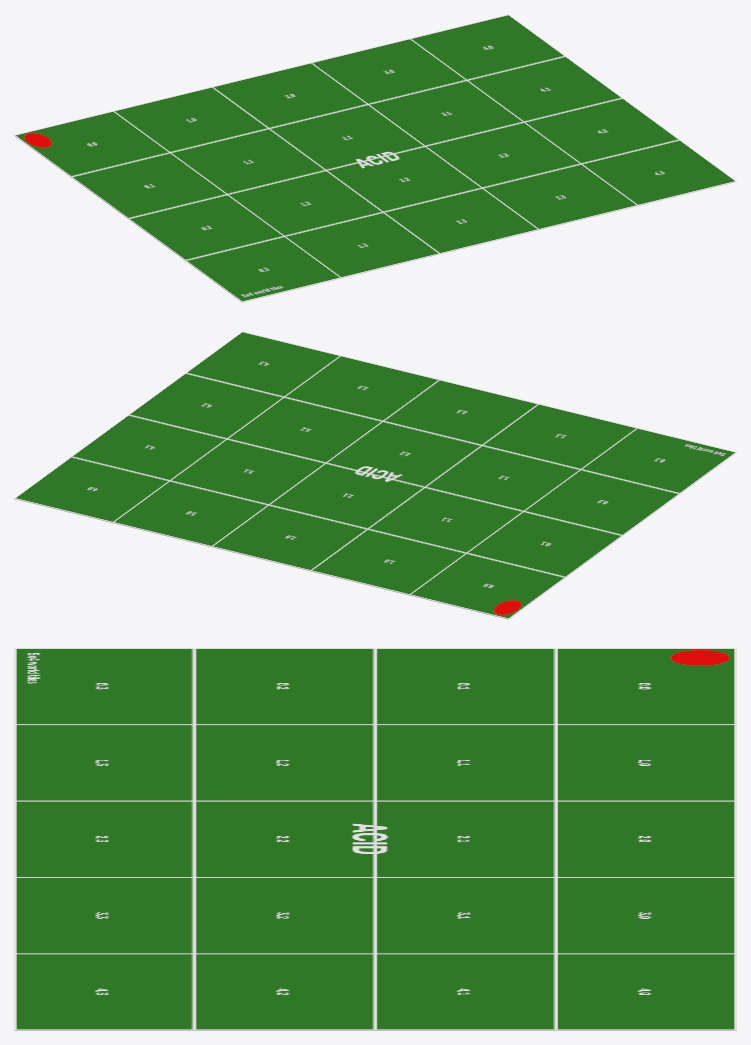
File: underlays.glb
The picture shows the model from 3 angles, top to bottom: view 1: azimuth 30°, elevation 25°; view 2: azimuth 150°, elevation 25°; view 3: azimuth 270°, elevation 25°; orthographic projection. The views are drawn at different scales.
Parts seen in each view (by area): view 1: acid; view 2: acid; view 3: acid.
Part boxes in pixels (x1,y1,x2,y2): acid: [14, 14, 736, 302]; acid: [14, 331, 736, 619]; acid: [14, 648, 736, 1030].
Bounding box in the file's own units: 16 × 0.0125 × 12.8.
4 materials, 4 textured.
